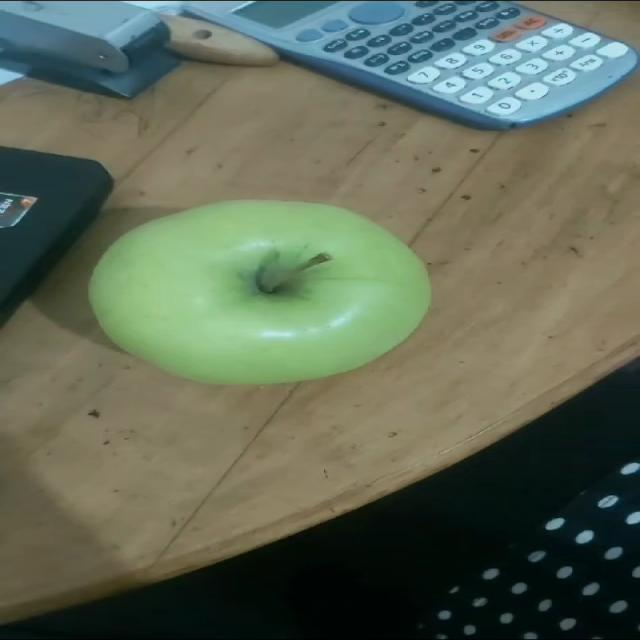50-_ripeness: (88, 198, 432, 384)
